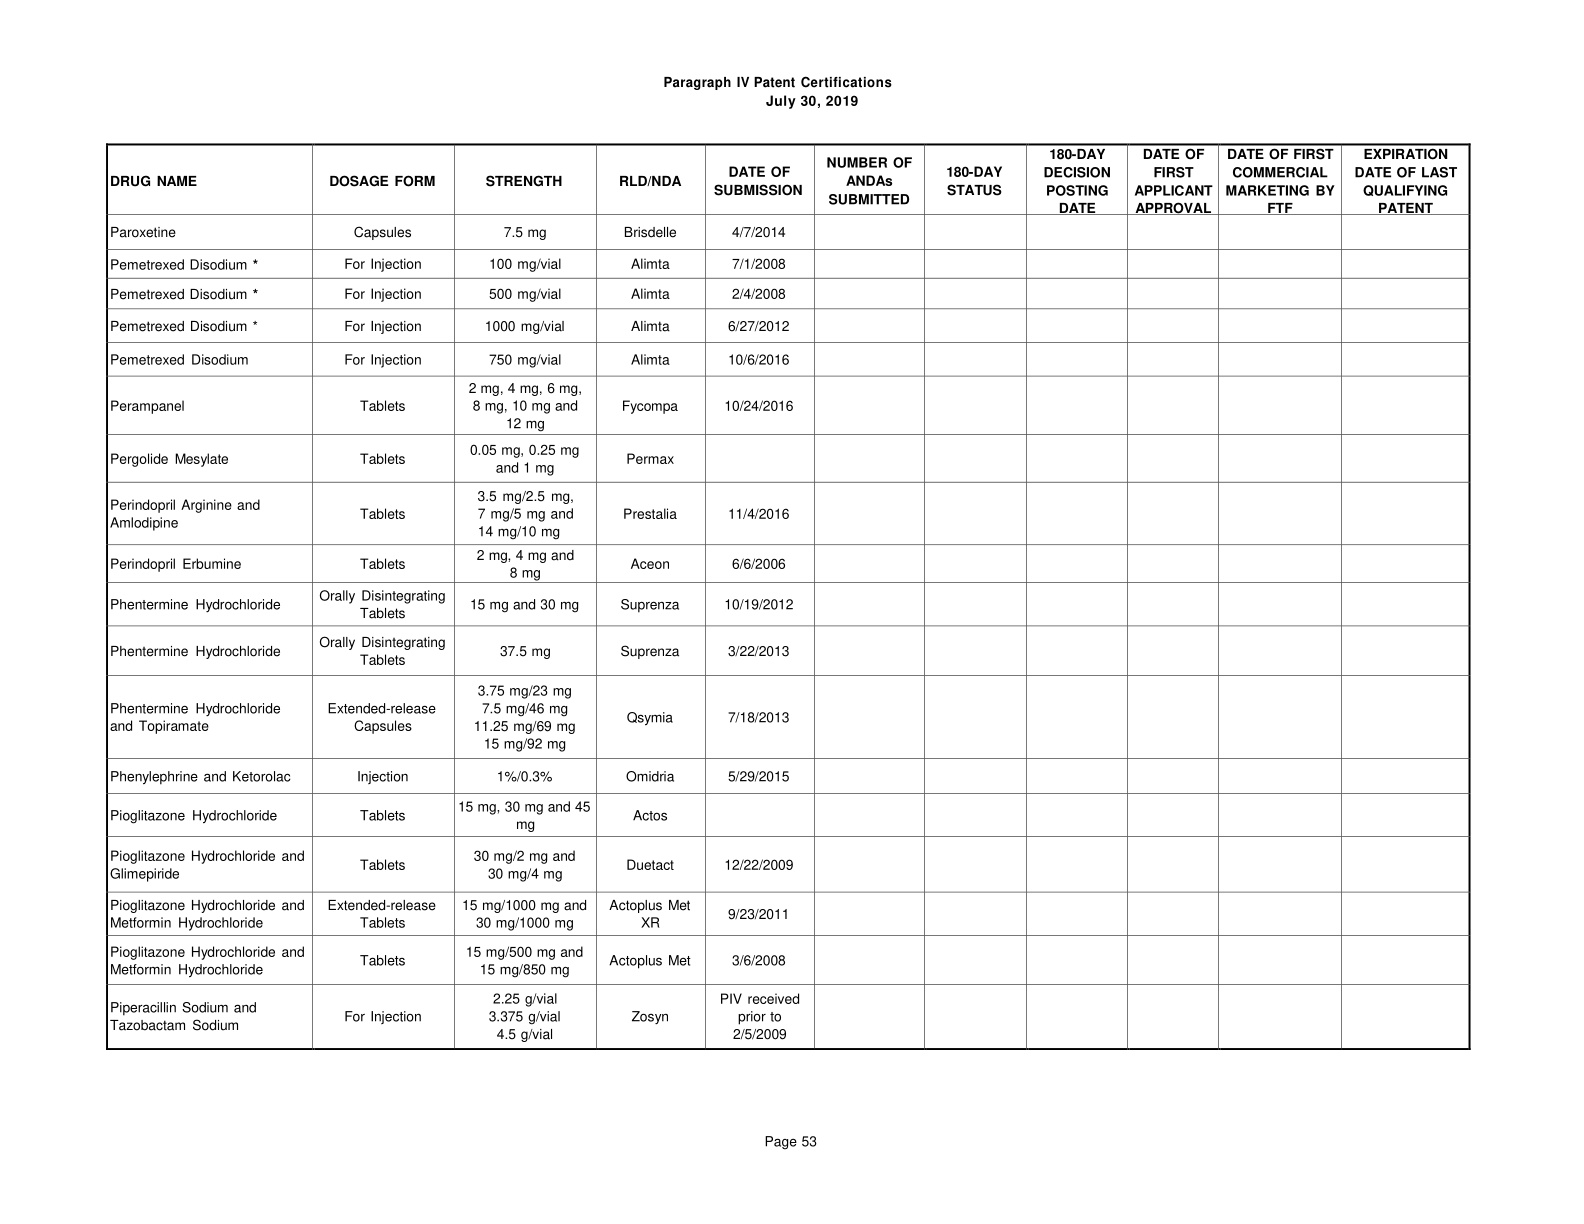full_lined: (105, 141, 1471, 1050)
